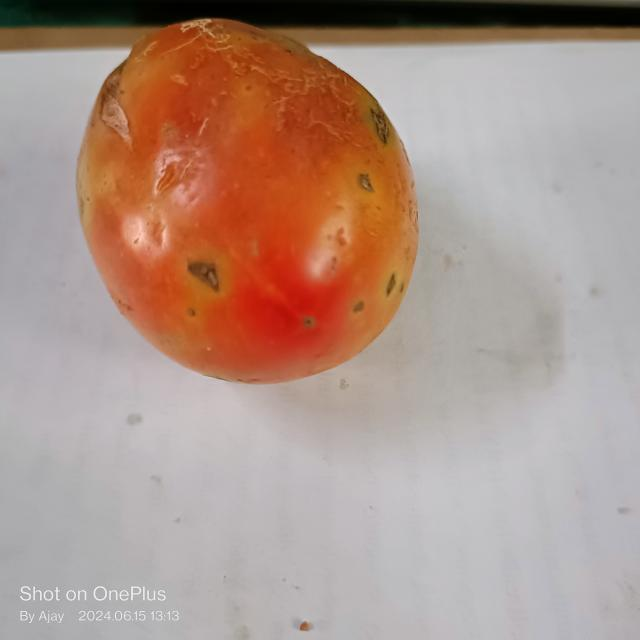Bacterial_Spot: (91, 71, 139, 144), (364, 102, 397, 146), (188, 256, 227, 289), (356, 170, 376, 194)
